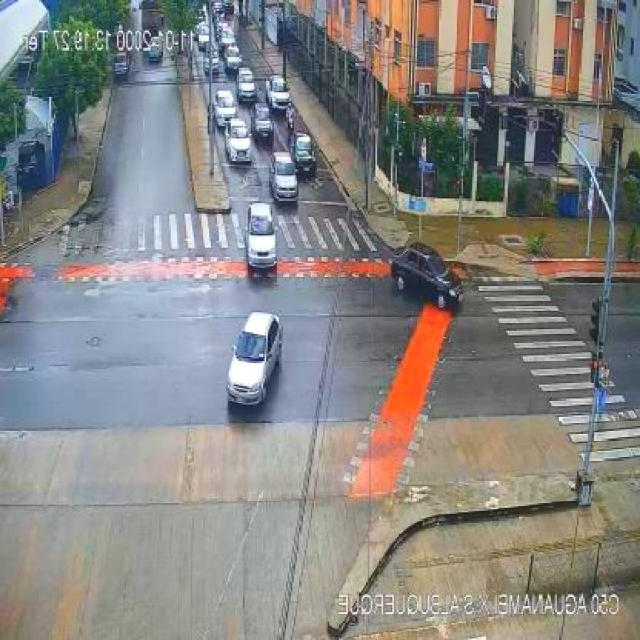Car: (216, 293, 298, 415), (390, 242, 462, 306), (245, 204, 277, 268), (269, 154, 299, 200), (225, 121, 253, 163), (290, 134, 317, 176), (213, 91, 237, 128), (266, 76, 290, 112), (252, 104, 274, 140), (236, 72, 258, 102), (114, 52, 132, 80), (145, 37, 163, 63), (225, 53, 243, 75), (204, 54, 222, 76), (220, 33, 236, 54), (197, 26, 210, 51), (218, 22, 232, 42), (212, 19, 224, 42), (225, 44, 240, 62), (220, 1, 234, 19), (212, 1, 223, 16), (199, 7, 208, 25), (197, 22, 208, 36)
Cycle: (284, 104, 296, 132)
